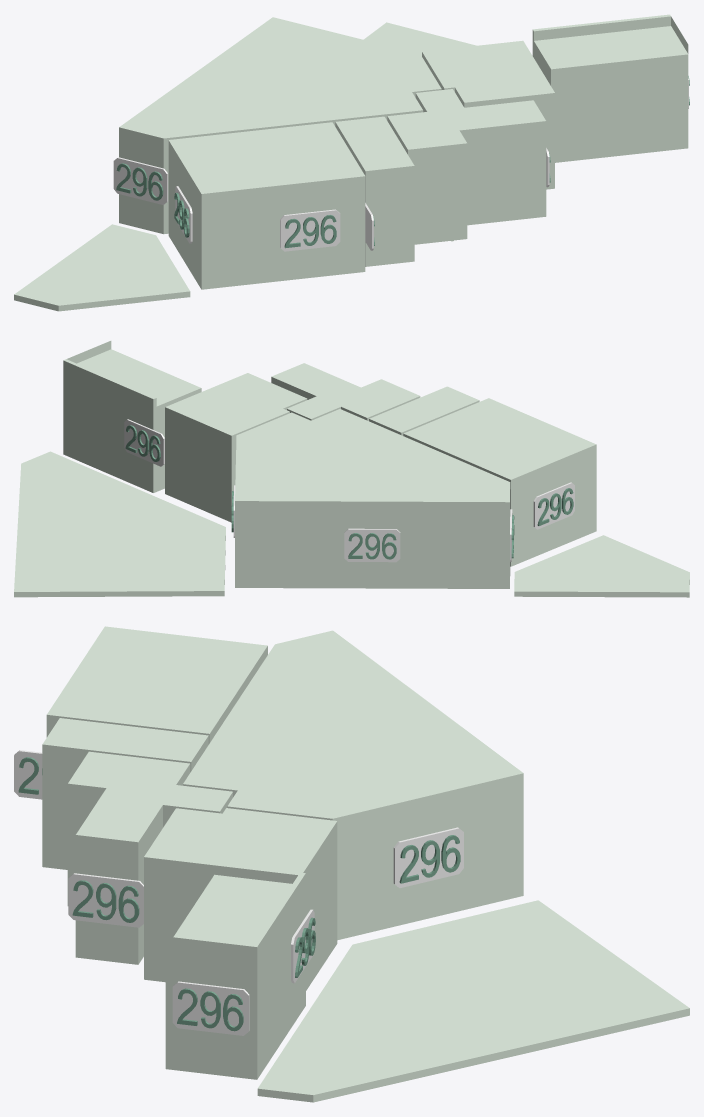
3 views of the same model, one above another, from view 1: azimuth 30°, elevation 25°; view 2: azimuth 150°, elevation 25°; view 3: azimuth 270°, elevation 25° (orthographic). The views are drawn at different scales.
Parts seen in each view (by area): view 1: g_1, g_0, g_5, g_3, g_6, g_2, g_4, g_7, g_11, g_19; view 2: g_0, g_7, g_1, g_5, g_4, g_6, g_3, g_2, g_15, g_27, g_23; view 3: g_0, g_7, g_5, g_4, g_1, g_3, g_2, g_35, g_43, g_39, g_31.
Part boxes in pixels (x1,y1,x2,y2): g_1: [168, 122, 365, 289]; g_0: [119, 17, 441, 234]; g_5: [532, 14, 688, 162]; g_3: [387, 89, 546, 244]; g_6: [14, 224, 190, 311]; g_2: [335, 116, 414, 266]; g_4: [422, 40, 554, 189]; g_7: [363, 22, 476, 55]; g_11: [280, 209, 340, 251]; g_19: [113, 157, 167, 204]; g_0: [235, 409, 510, 588]; g_7: [14, 451, 225, 597]; g_1: [403, 398, 596, 566]; g_5: [63, 341, 201, 492]; g_4: [165, 373, 307, 522]; g_6: [514, 535, 689, 597]; g_3: [271, 363, 420, 420]; g_2: [369, 386, 479, 435]; g_15: [344, 528, 400, 562]; g_27: [533, 482, 574, 529]; g_23: [124, 419, 164, 466]; g_0: [183, 630, 523, 940]; g_7: [257, 900, 689, 1102]; g_5: [165, 872, 305, 1079]; g_4: [144, 808, 337, 990]; g_1: [46, 626, 267, 744]; g_3: [67, 751, 232, 964]; g_2: [42, 718, 208, 869]; g_35: [172, 981, 249, 1035]; g_43: [68, 873, 143, 927]; g_39: [393, 827, 463, 887]; g_31: [14, 750, 42, 799].
Size of the model in its own units: 19.02 by 2.85 by 12.46.
